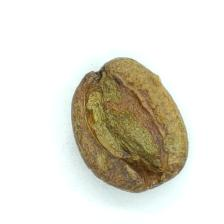NG: (78, 70, 170, 180)
